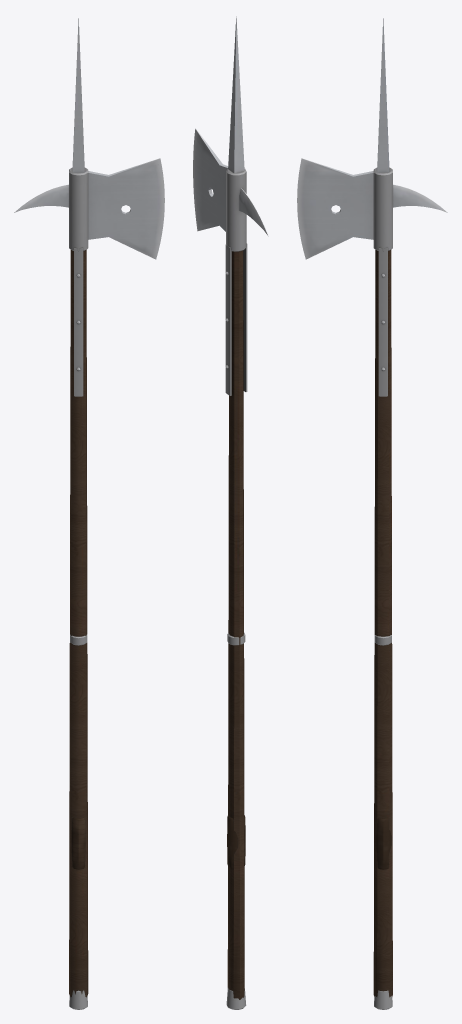
The model's file is halberd.glb.
The picture shows the model from 3 angles, left to right: view 1: azimuth 90°, elevation 25°; view 2: azimuth 210°, elevation 25°; view 3: azimuth 270°, elevation 25°; orthographic projection.
Parts seen in each view (by area): view 1: SM_V_halberd; view 2: SM_V_halberd; view 3: SM_V_halberd.
Boxes of the visible parts, box(x1,y1,x2,y2) form: SM_V_halberd: box(14, 18, 164, 1009); SM_V_halberd: box(193, 16, 268, 1009); SM_V_halberd: box(297, 18, 447, 1009).
Bounding box in the file's own units: 0.058 × 2.54 × 0.3504.
1 material, 1 textured.
